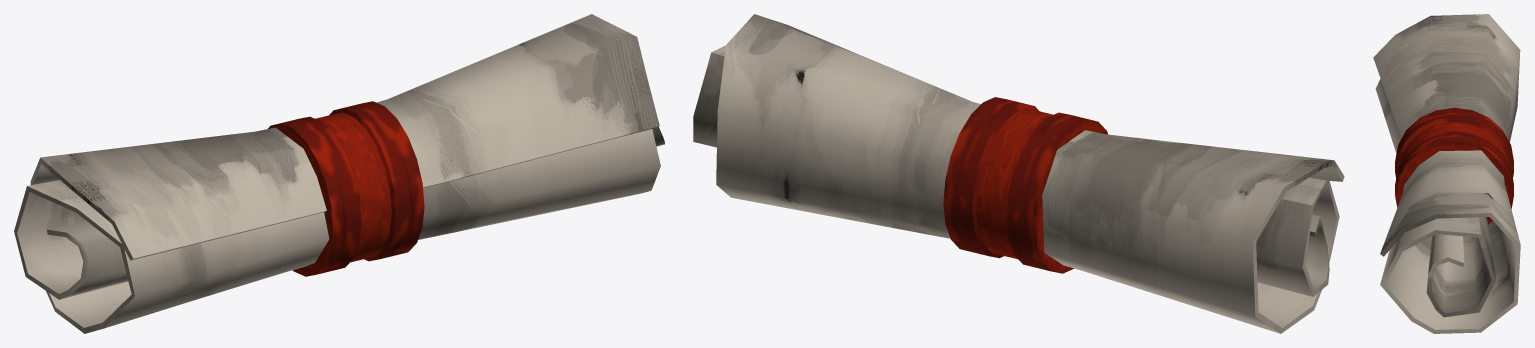
Rendered from scroll_2.gltf.
The picture shows the model from 3 angles, left to right: view 1: azimuth 30°, elevation 25°; view 2: azimuth 150°, elevation 25°; view 3: azimuth 270°, elevation 25°; orthographic projection. The views are drawn at different scales.
Parts seen in each view (by area): view 1: Scroll_2; view 2: Scroll_2; view 3: Scroll_2.
Part boxes in pixels (x1,y1,x2,y2): Scroll_2: [14, 14, 664, 333]; Scroll_2: [693, 14, 1344, 333]; Scroll_2: [1373, 14, 1520, 333].
Bounding box in the file's own units: 0.2329 × 0.0587 × 0.0637.
Materials: 2 (2 with a texture image).
